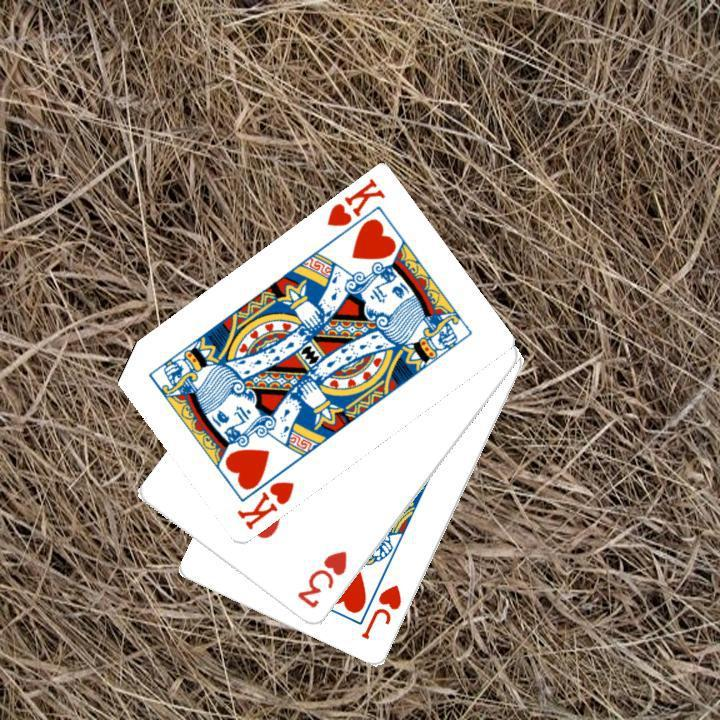3: (292, 547, 350, 611)
J: (357, 580, 404, 642)
K: (232, 477, 297, 533), (322, 175, 387, 230)
